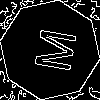M: (25, 25, 77, 74)
